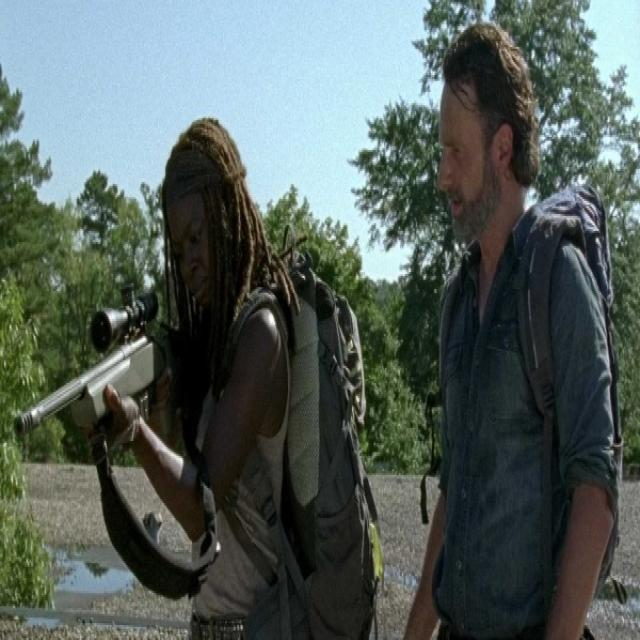rifle: (15, 285, 182, 449)
